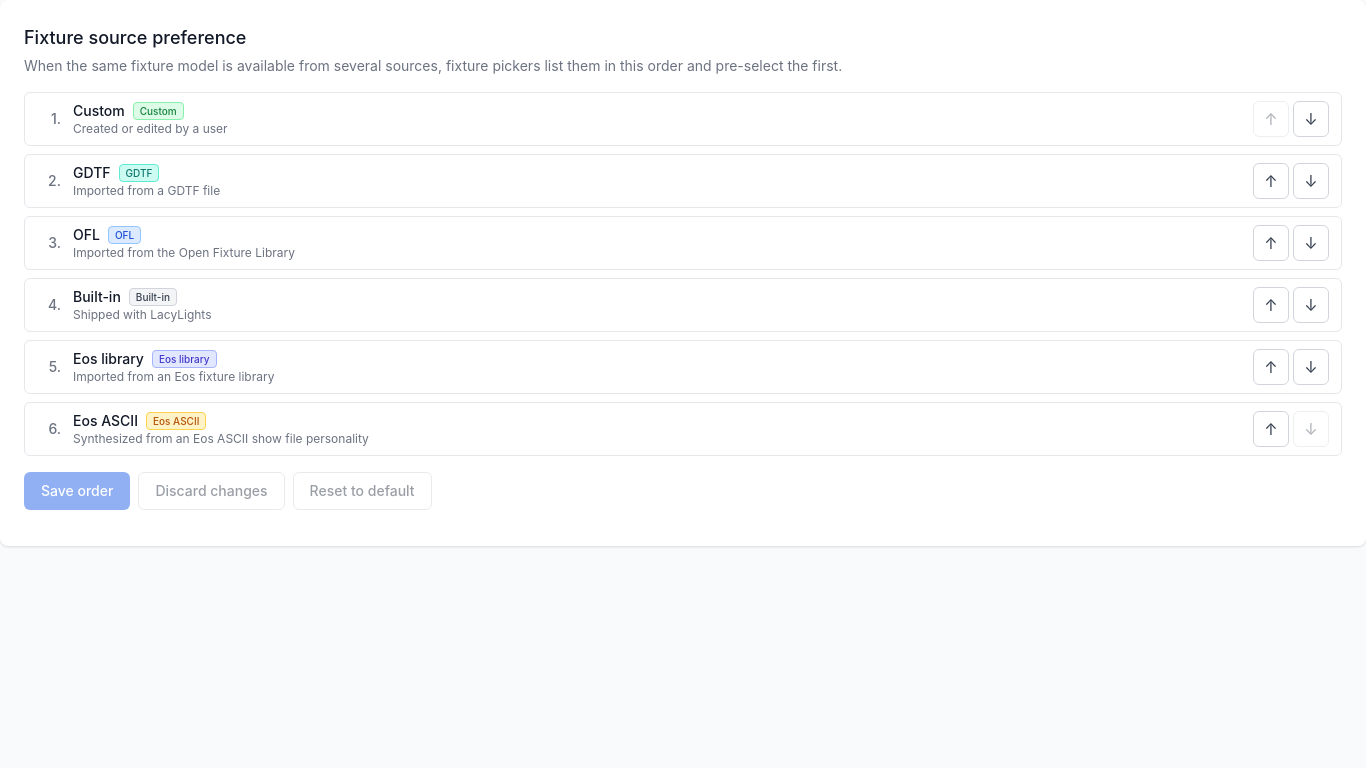
FixtureSourcePrecedenceSettings › shows an error when saving fails and keeps the edited order
This screenshot has width=1366, height=768.
Click the button named "Move GDTF up" at {"x": 1271, "y": 181}, box top-left (1253, 163), bottom-right (1289, 199)
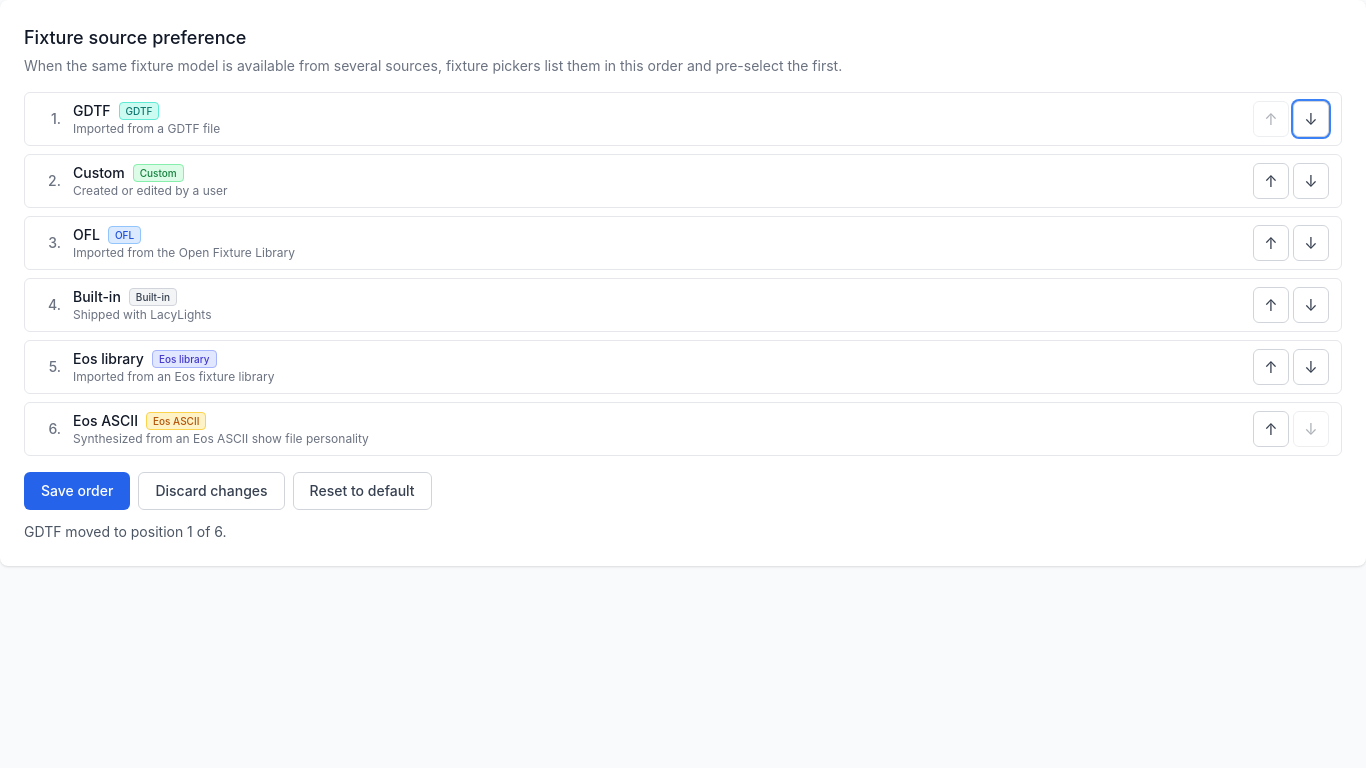
Click the button "Save order" at {"x": 77, "y": 491}, box top-left (24, 472), bottom-right (130, 510)
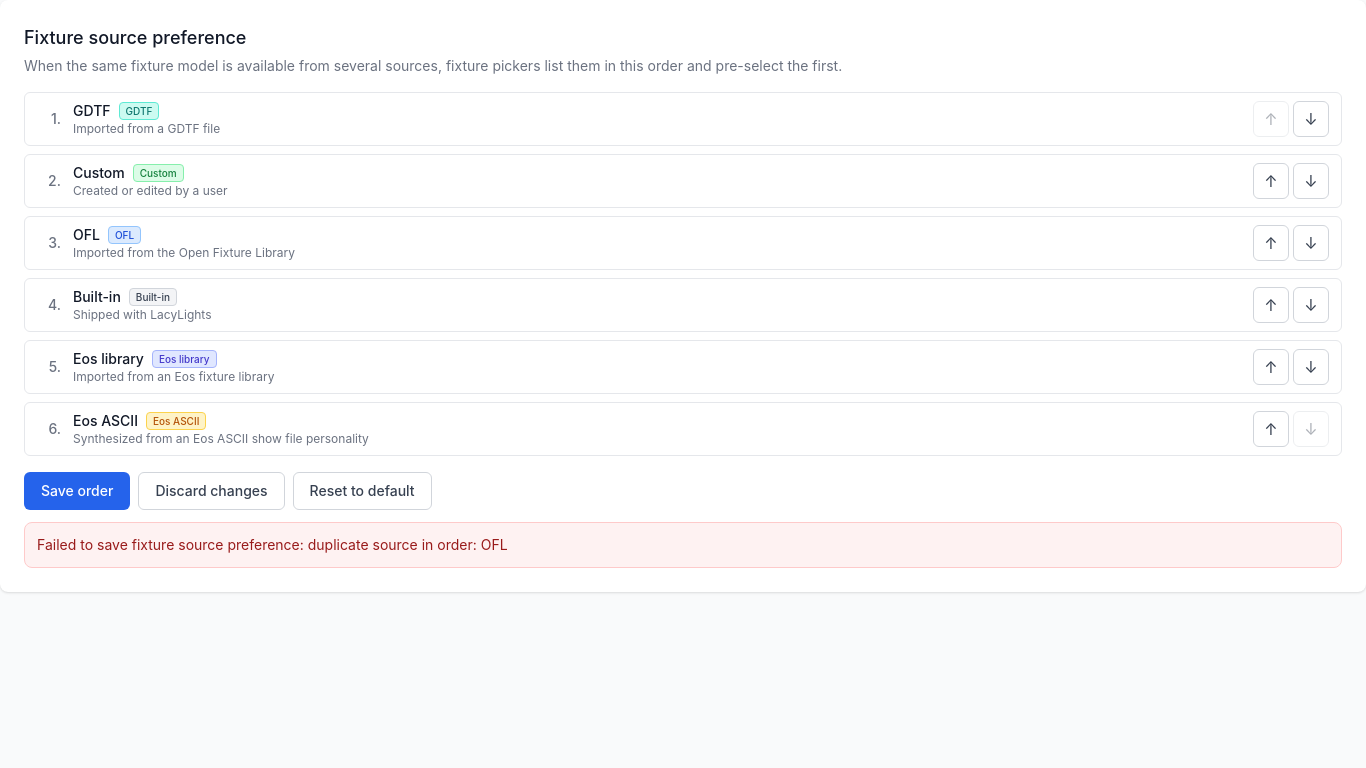
Result: the button "Save order" is enabled at top-left (24, 472), bottom-right (130, 510)
Result: the text "Failed to save fixture source preference: duplicate source in order: OFL" is shown at top-left (37, 536), bottom-right (508, 553)
